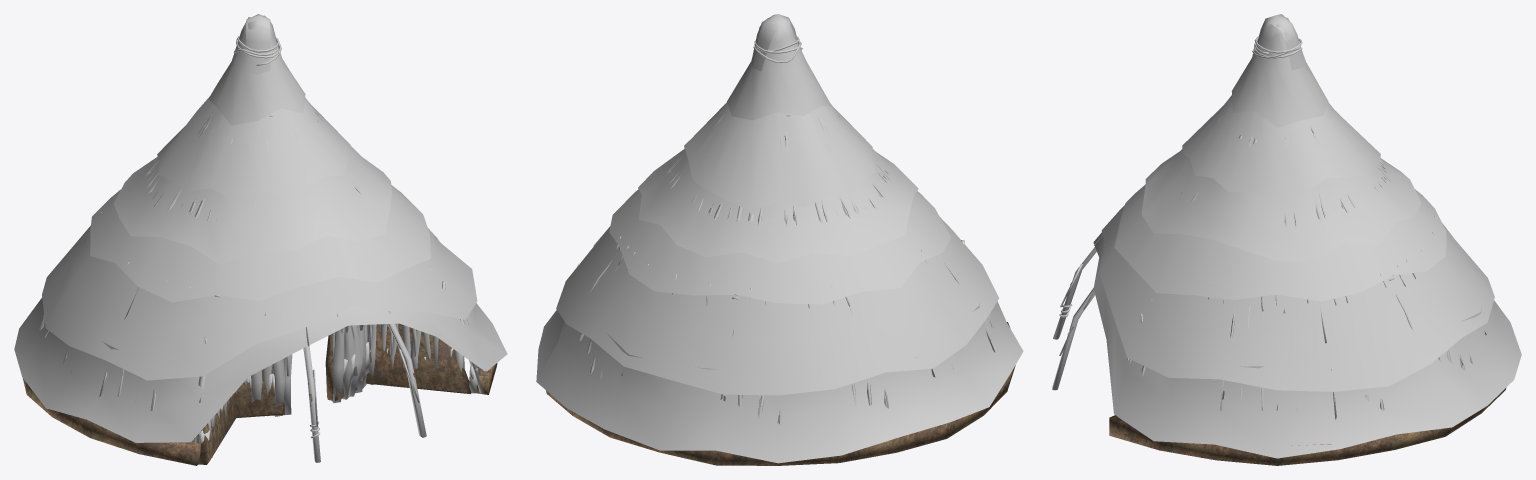
The model's file is lowpoly_african_hut_006.obj.
3 views of the same model, side by side, from view 1: azimuth 30°, elevation 25°; view 2: azimuth 150°, elevation 25°; view 3: azimuth 270°, elevation 25° (orthographic).
Visible parts, largest first — view 1: lowpoly_african_hut_006; view 2: lowpoly_african_hut_006; view 3: lowpoly_african_hut_006.
Part boxes in pixels (<box>): lowpoly_african_hut_006: <box>14,14,507,465</box>; lowpoly_african_hut_006: <box>536,14,1023,465</box>; lowpoly_african_hut_006: <box>1052,14,1521,465</box>.
Size of the model in its own units: 4.25 by 3.39 by 4.08.
